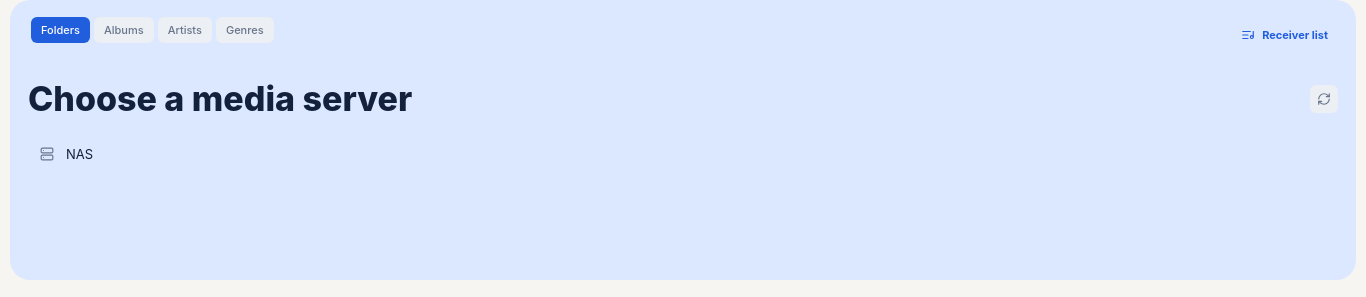
Test: NetList › ignores an obsolete playback failure after navigating to another folder
Click the button with aria-label "Open media server NAS".
click(47, 154)  # box [28, 135, 1334, 173]
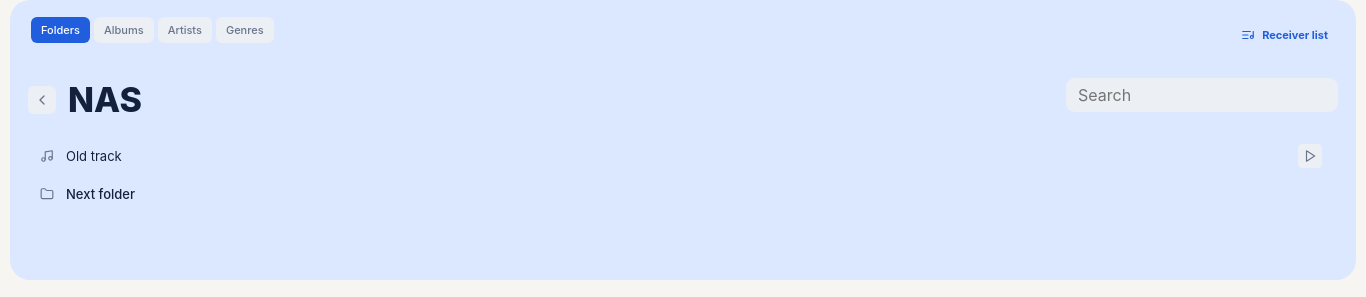
Click the button with aria-label "Play Old track".
click(94, 156)  # box [28, 137, 1334, 175]
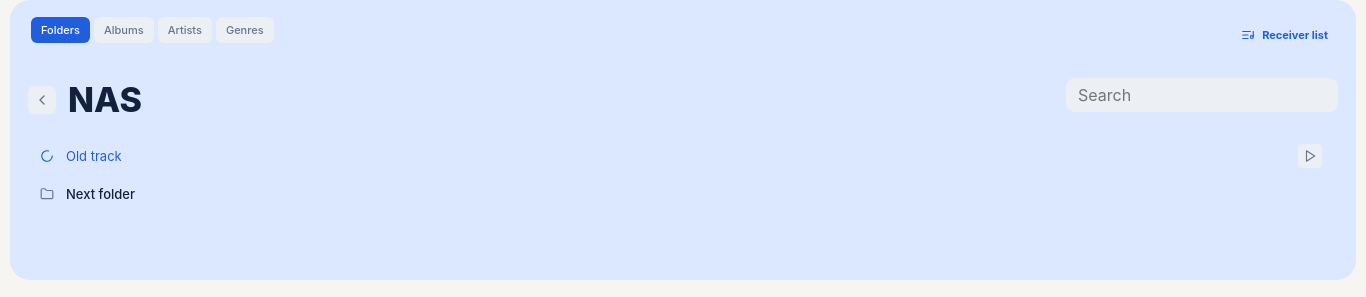
Click the button with aria-label "Open folder Next folder".
click(100, 194)  # box [28, 175, 1334, 213]
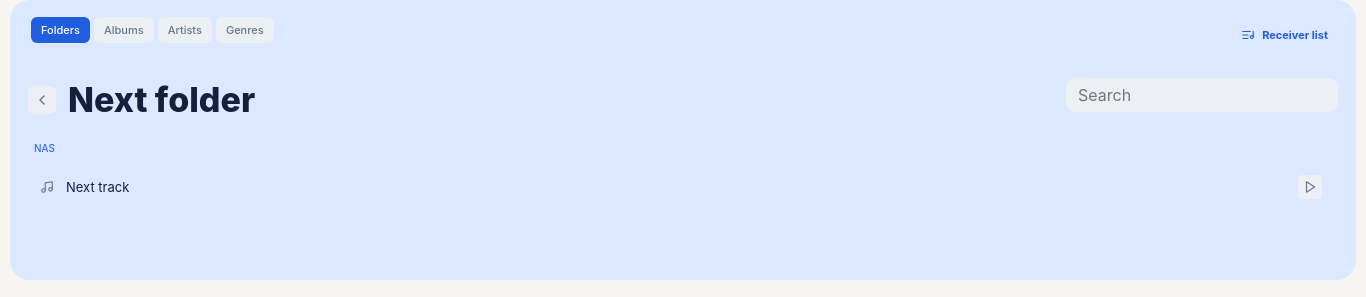
Check: the button with aria-label "Play Next track" is shown, box [28, 168, 1334, 206]
